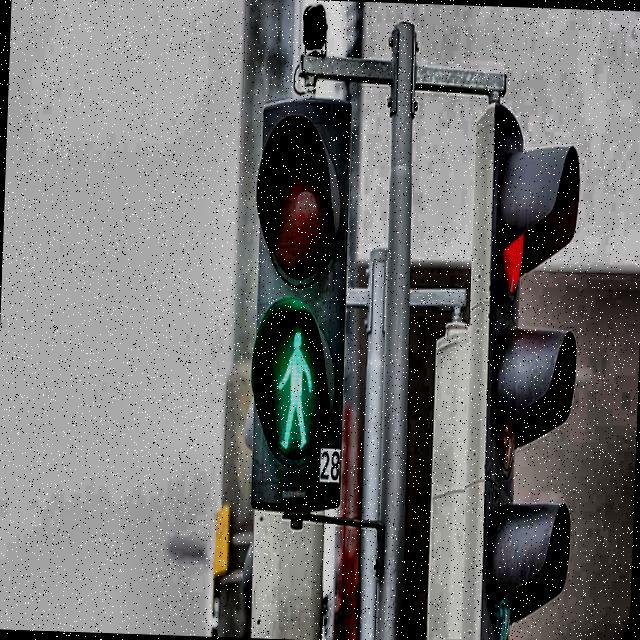green_light: (272, 327, 314, 454)
